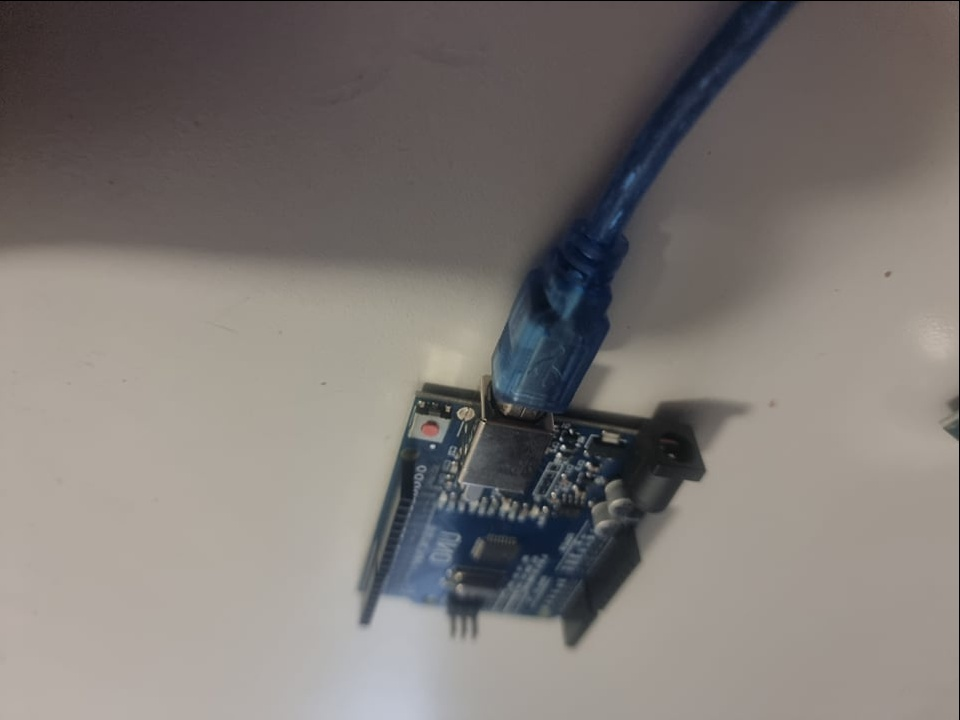UNO R3: (348, 391, 715, 653)
